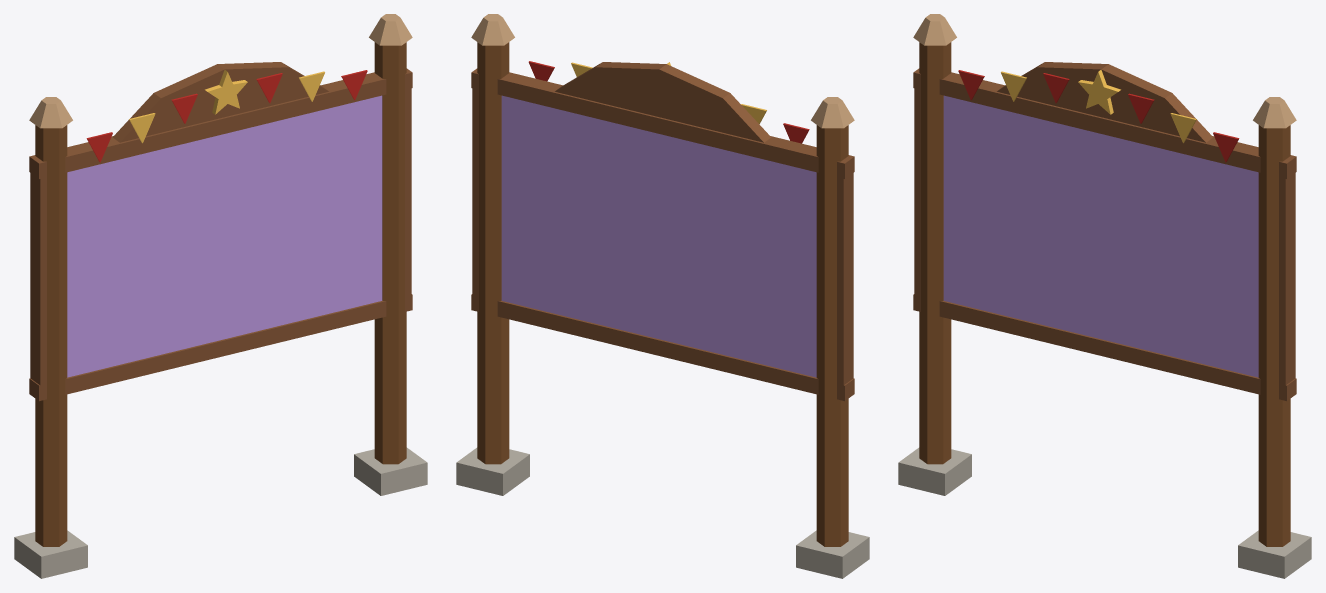
File: du-an-pho.glb
3 views of the same model, side by side, from view 1: azimuth 30°, elevation 25°; view 2: azimuth 150°, elevation 25°; view 3: azimuth 330°, elevation 25° (orthographic).
Visible parts, largest first — view 1: du-an-pho-3, du-an-pho-0, du-an-pho-4, du-an-pho-5, du-an-pho-2, du-an-pho-1, du-an-pho-7, du-an-pho-6, du-an-pho-8; view 2: du-an-pho-3, du-an-pho-0, du-an-pho-4, du-an-pho-5, du-an-pho-2, du-an-pho-1, du-an-pho-7; view 3: du-an-pho-3, du-an-pho-0, du-an-pho-4, du-an-pho-5, du-an-pho-2, du-an-pho-1, du-an-pho-7, du-an-pho-6, du-an-pho-8.
Part boxes in pixels (x1=…): du-an-pho-3: x1=67, y1=95, x2=382, y2=377; du-an-pho-0: x1=35, y1=42, x2=406, y2=546; du-an-pho-4: x1=29, y1=68, x2=412, y2=401; du-an-pho-5: x1=112, y1=62, x2=328, y2=142; du-an-pho-2: x1=14, y1=447, x2=427, y2=578; du-an-pho-1: x1=29, y1=14, x2=412, y2=128; du-an-pho-7: x1=86, y1=70, x2=367, y2=162; du-an-pho-6: x1=205, y1=70, x2=247, y2=114; du-an-pho-8: x1=129, y1=71, x2=324, y2=143; du-an-pho-3: x1=501, y1=95, x2=816, y2=377; du-an-pho-0: x1=477, y1=42, x2=848, y2=546; du-an-pho-4: x1=471, y1=68, x2=854, y2=401; du-an-pho-5: x1=555, y1=62, x2=771, y2=142; du-an-pho-2: x1=456, y1=447, x2=869, y2=578; du-an-pho-1: x1=471, y1=14, x2=854, y2=128; du-an-pho-7: x1=528, y1=61, x2=809, y2=143; du-an-pho-3: x1=943, y1=95, x2=1258, y2=377; du-an-pho-0: x1=919, y1=42, x2=1290, y2=546; du-an-pho-4: x1=913, y1=68, x2=1296, y2=401; du-an-pho-5: x1=997, y1=62, x2=1213, y2=142; du-an-pho-2: x1=898, y1=447, x2=1311, y2=578; du-an-pho-1: x1=913, y1=14, x2=1296, y2=128; du-an-pho-7: x1=958, y1=70, x2=1239, y2=162; du-an-pho-6: x1=1078, y1=70, x2=1120, y2=114; du-an-pho-8: x1=1001, y1=71, x2=1196, y2=143.
Bounding box in the file's own units: 1.82 × 2.08 × 0.22.
